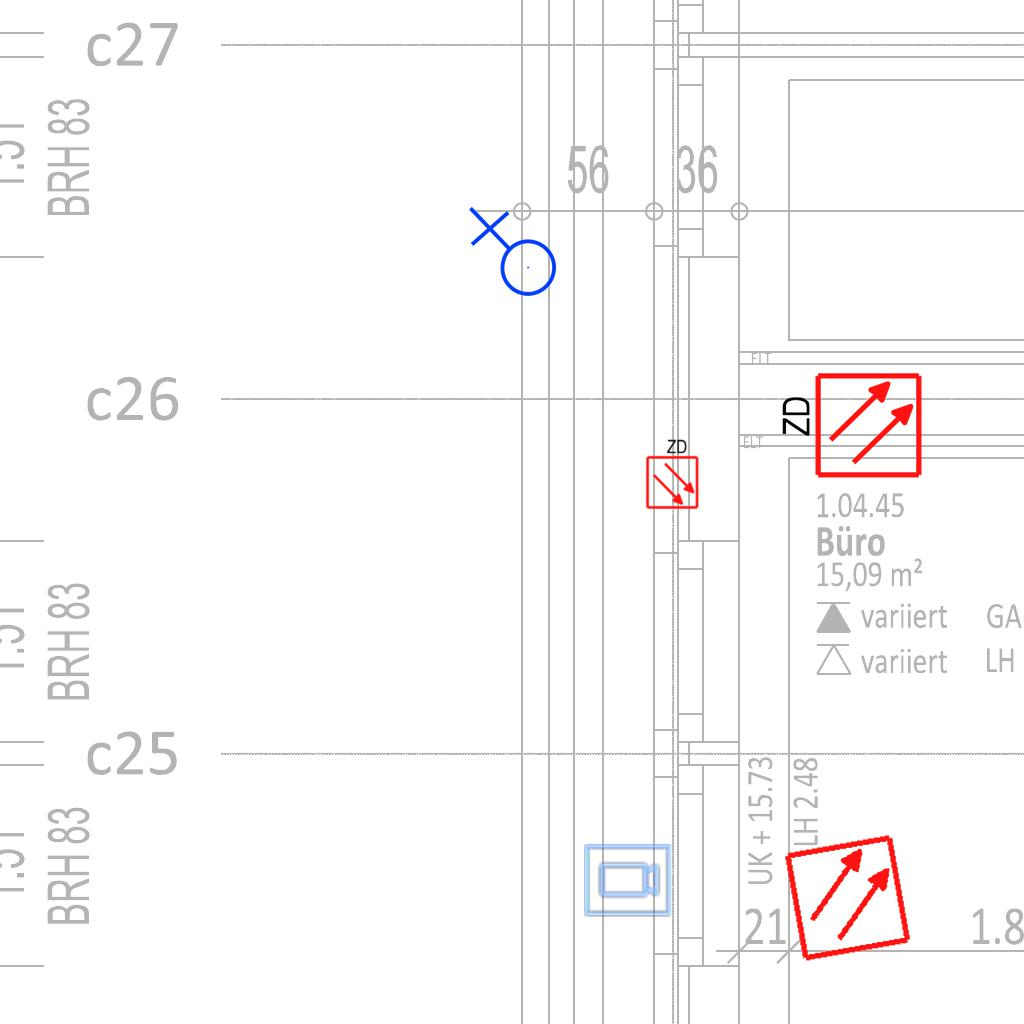Elektroanschluss_allgemein_230V_Geraeteanschlussdose_230V: (464, 206, 558, 305)
KFO_Kamera_mit_Festobjektiv: (582, 842, 673, 919)
RMO_Rauchmelder_optischer: (782, 832, 913, 963)
ZD_Melder_in_Zwischendecke_mit_Revisionsoeffnung_mind_40_x_40_cm: (775, 370, 924, 484), (643, 436, 700, 510)
